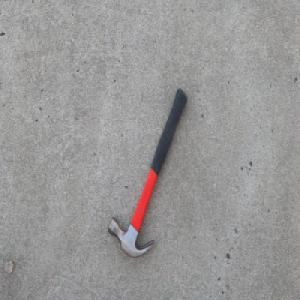Hammer: (107, 87, 188, 260)
